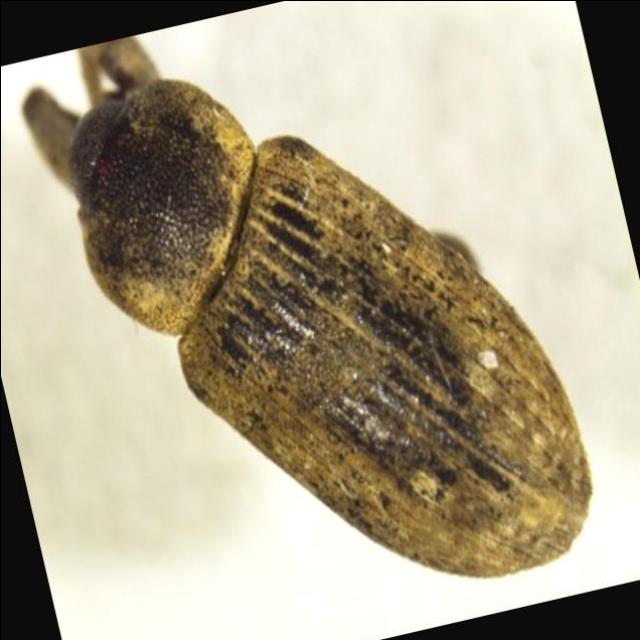ricebug: (23, 36, 591, 576)
